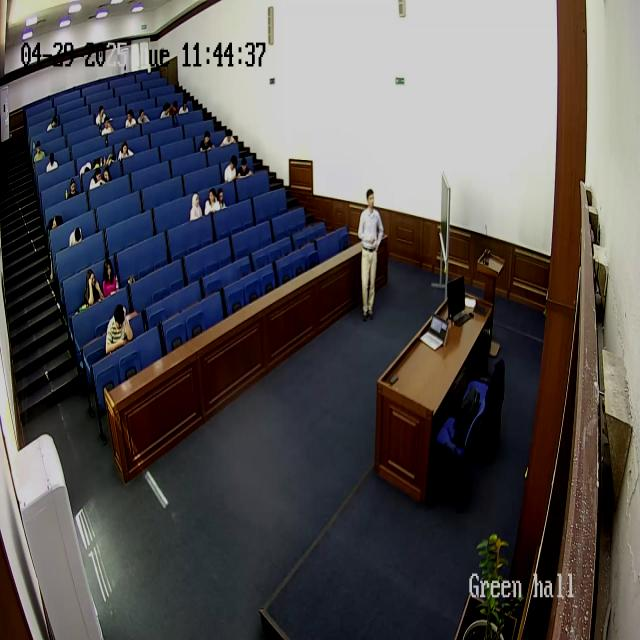person: (357, 189, 384, 319), (105, 303, 134, 356), (84, 270, 102, 310), (102, 258, 119, 298), (203, 187, 219, 216), (88, 167, 105, 189), (199, 129, 215, 152), (190, 192, 203, 220), (224, 156, 238, 182), (221, 127, 237, 148), (237, 156, 252, 178), (68, 224, 82, 247), (118, 142, 134, 162), (48, 212, 64, 232), (100, 158, 112, 184), (66, 178, 80, 200), (100, 115, 114, 137), (215, 188, 227, 212), (34, 140, 46, 163), (46, 152, 59, 172), (124, 108, 137, 128), (95, 106, 107, 127), (46, 115, 59, 134), (160, 100, 172, 120), (137, 108, 149, 125), (178, 100, 190, 116), (172, 92, 178, 116)
